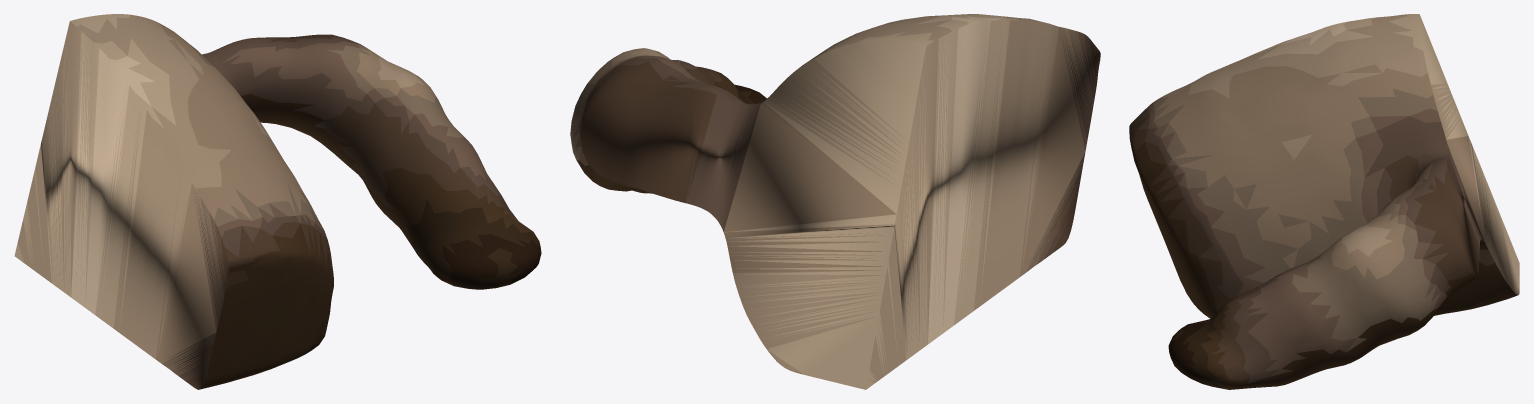
The model's file is tan_dome_br.glb.
3 renders of one model, left to right at view 1: azimuth 30°, elevation 25°; view 2: azimuth 150°, elevation 25°; view 3: azimuth 270°, elevation 25°, orthographic. The views are drawn at different scales.
Parts seen in each view (by area): view 1: tan_dome_br; view 2: tan_dome_br; view 3: tan_dome_br.
Boxes of the visible parts, bbox=[...] form: tan_dome_br: bbox=[14, 14, 541, 389]; tan_dome_br: bbox=[570, 14, 1100, 389]; tan_dome_br: bbox=[1129, 14, 1519, 389].
Bounding box in the file's own units: 21.95 × 16.19 × 22.96.
